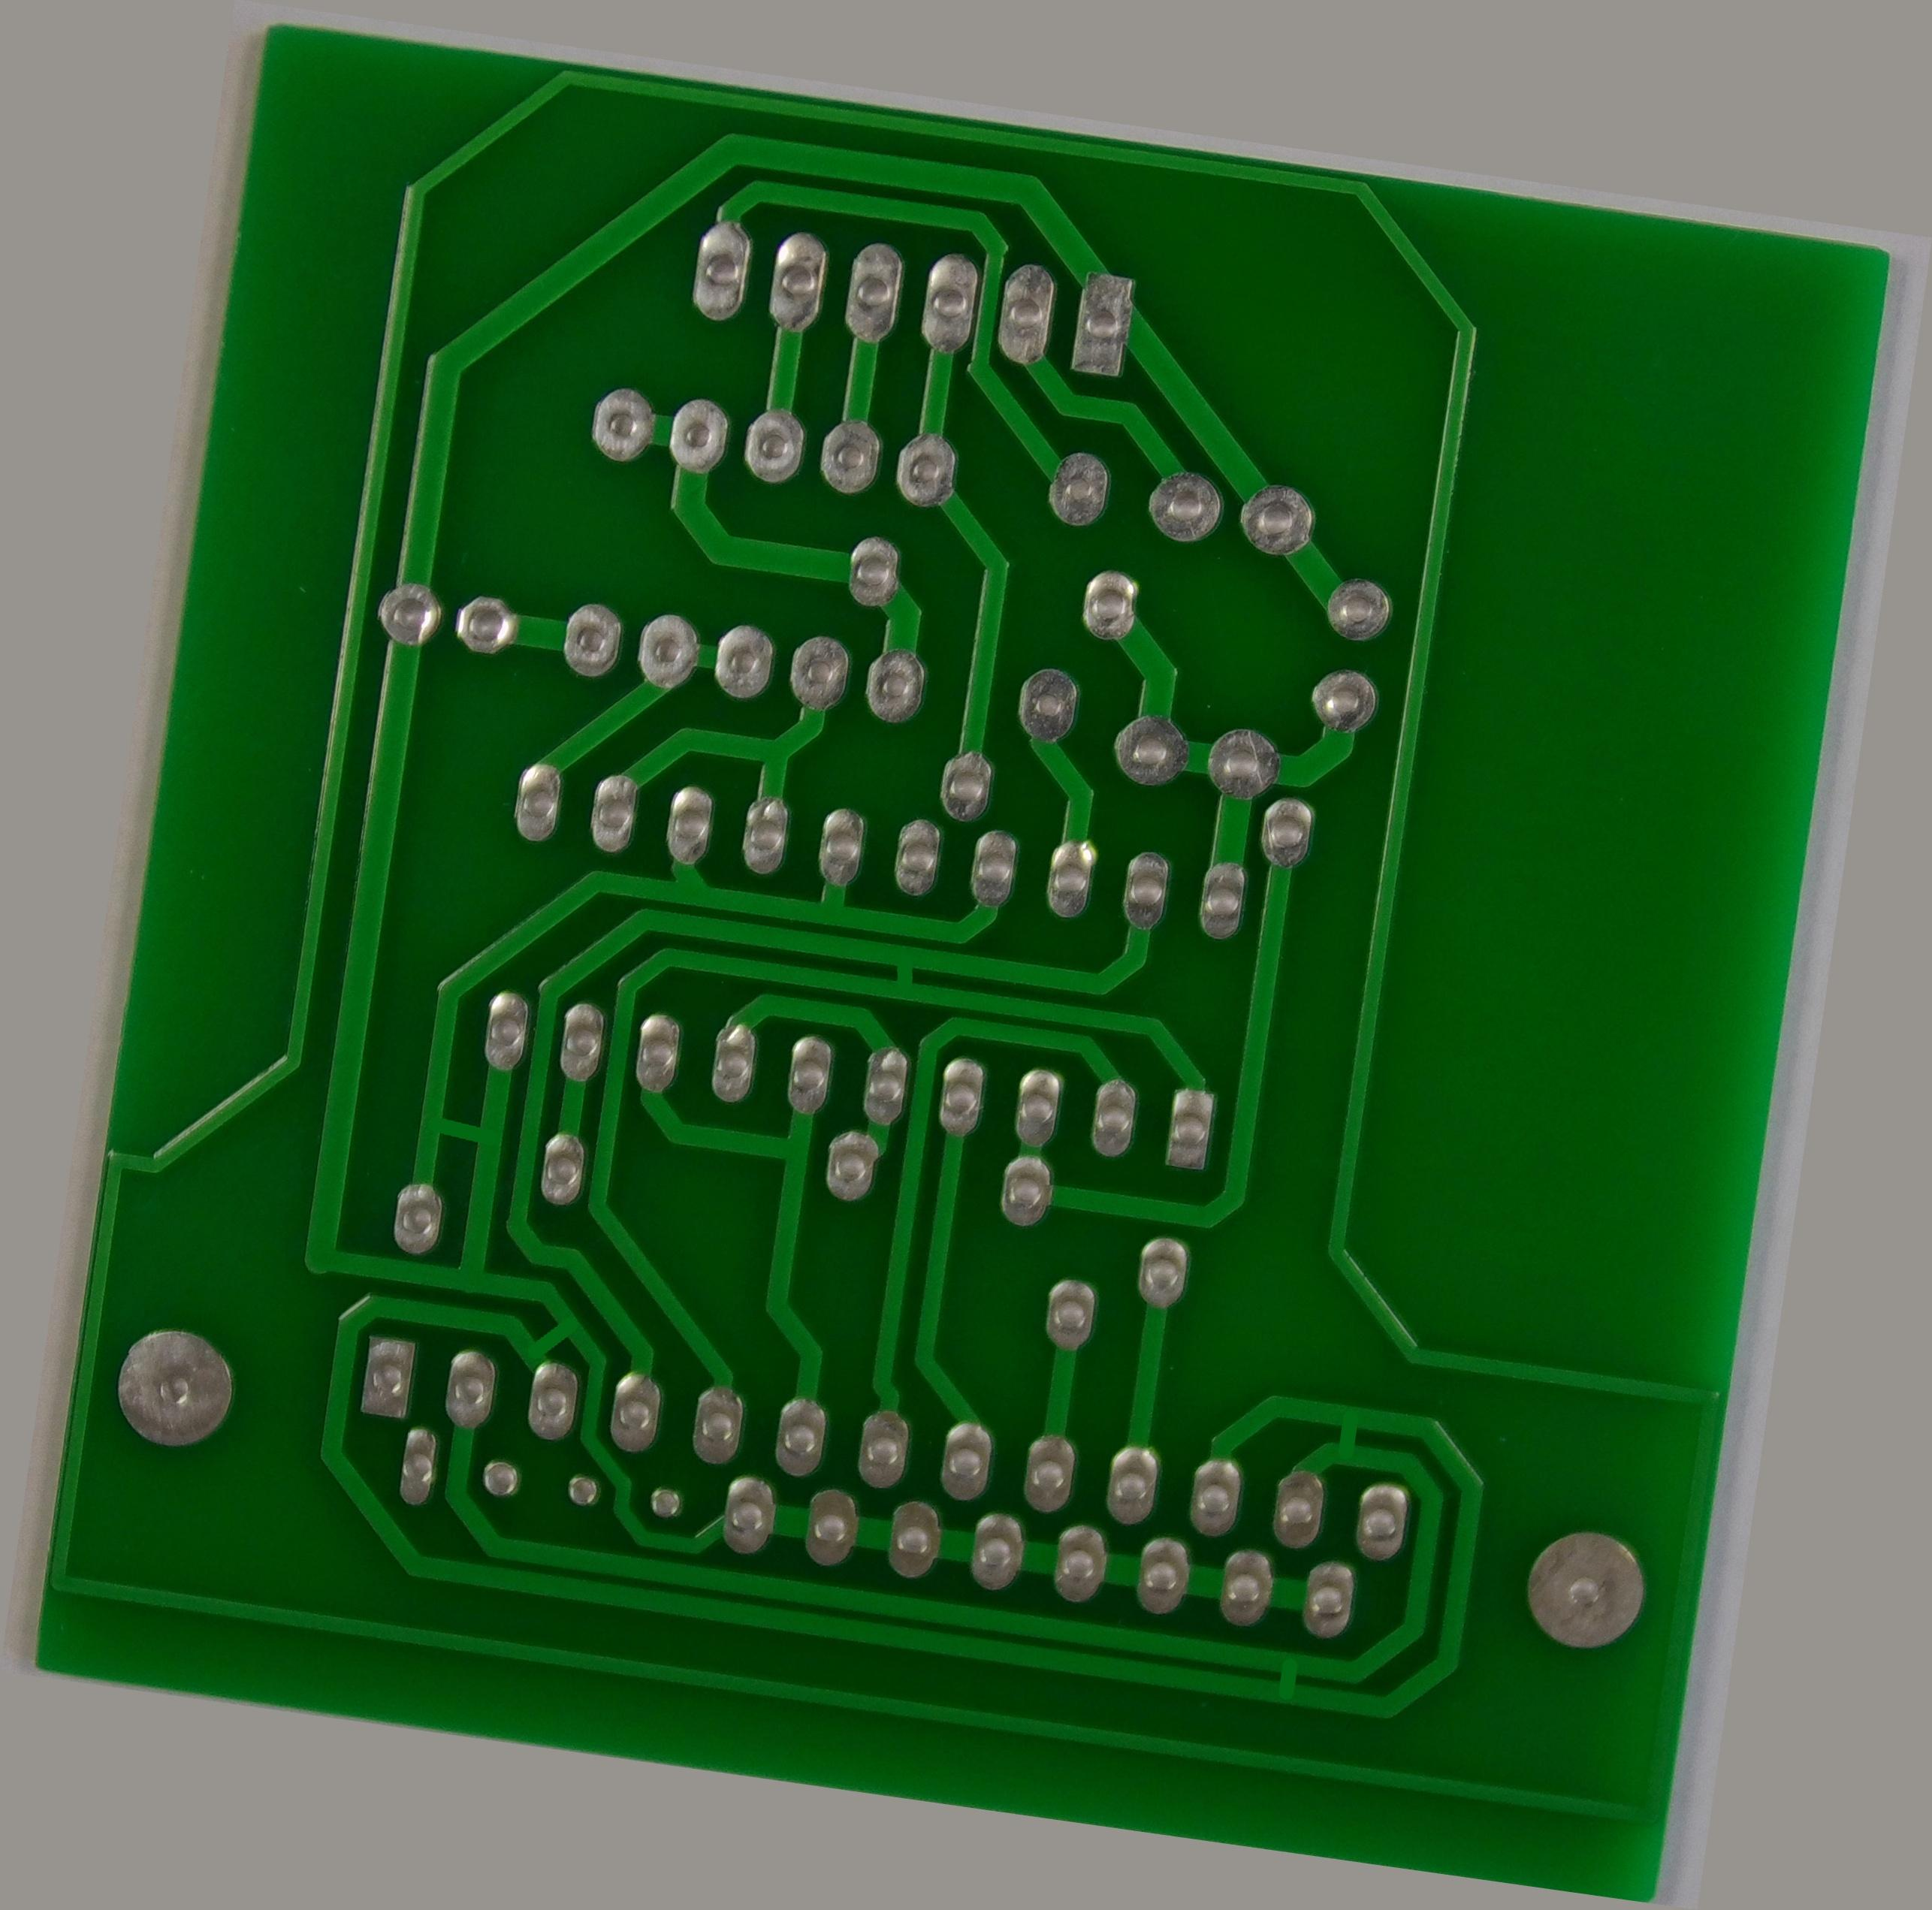short: (364, 1189, 485, 1275), (511, 1412, 604, 1490), (1433, 1385, 1496, 1478), (866, 945, 929, 1020), (1410, 1676, 1465, 1749)
